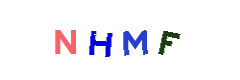F: (126, 0, 206, 80)
H: (79, 0, 159, 80)
M: (80, 0, 160, 80)
N: (28, 0, 108, 80)
